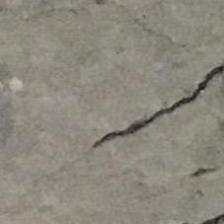Crack: (94, 26, 224, 150)
